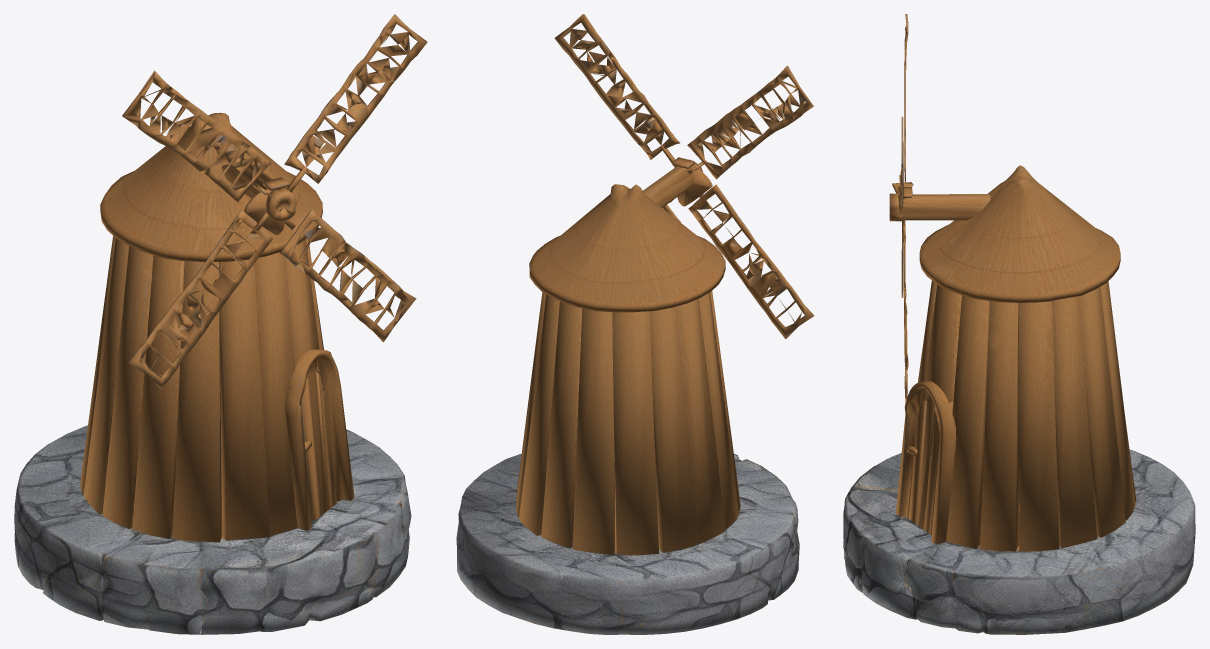
The model's file is windmill.glb.
The picture shows the model from 3 angles, left to right: view 1: azimuth 30°, elevation 25°; view 2: azimuth 150°, elevation 25°; view 3: azimuth 270°, elevation 25°; orthographic projection. The views are drawn at different scales.
Size of the model in its own units: 0.6104 by 0.9526 by 0.6143.
Materials: 1 (1 with a texture image).
